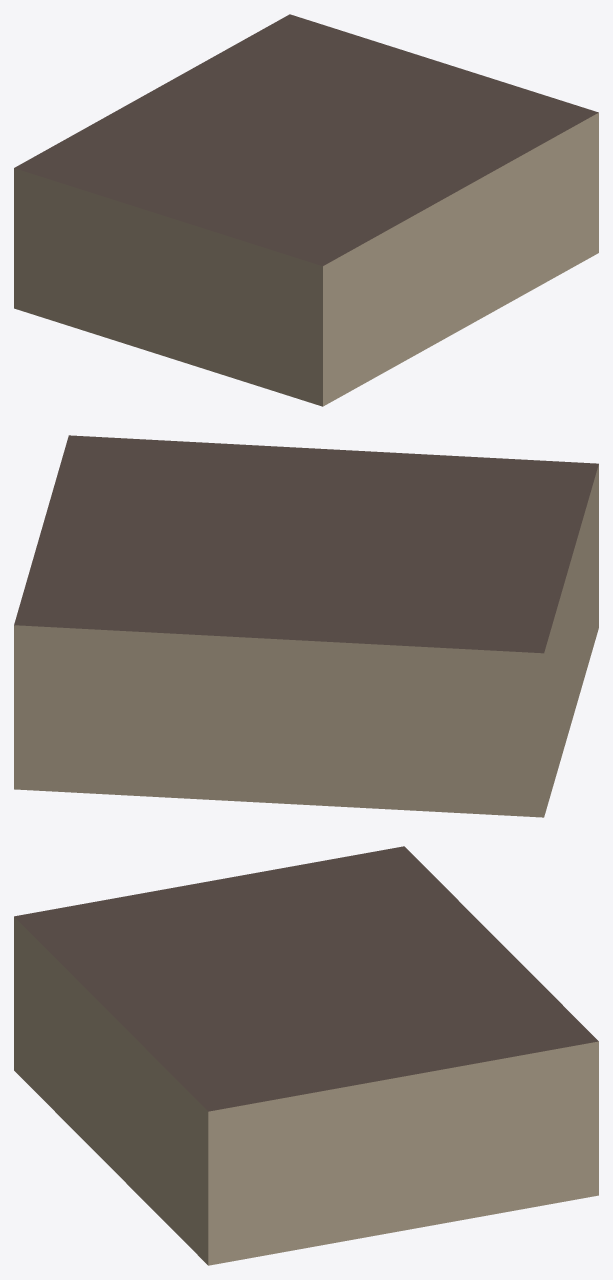
The picture shows the model from 3 angles, top to bottom: view 1: azimuth 30°, elevation 25°; view 2: azimuth 150°, elevation 25°; view 3: azimuth 270°, elevation 25°; orthographic projection. The views are drawn at different scales.
Parts seen in each view (by area): view 1: HP-w859457455; view 2: HP-w859457455; view 3: HP-w859457455.
Boxes of the visible parts, <box> form: HP-w859457455: <box>14,14,598,406</box>; HP-w859457455: <box>14,435,598,817</box>; HP-w859457455: <box>14,846,598,1265</box>.
Size of the model in its own units: 33.24 by 9 by 30.97.
